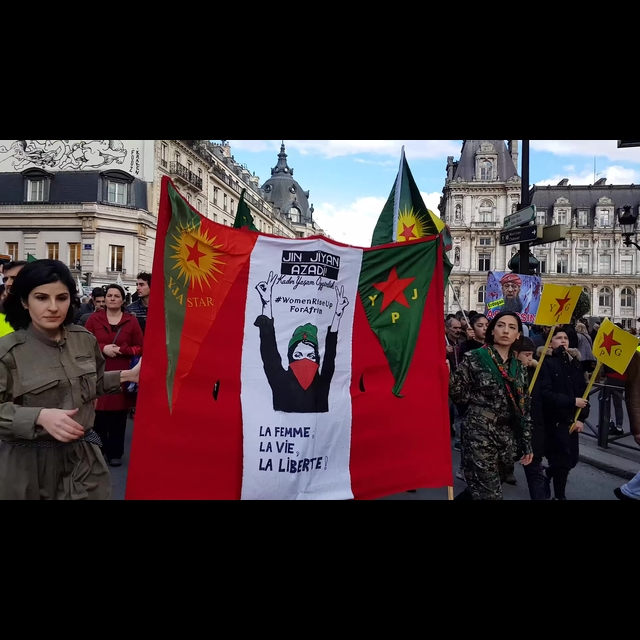KCK: (369, 144, 441, 236)
